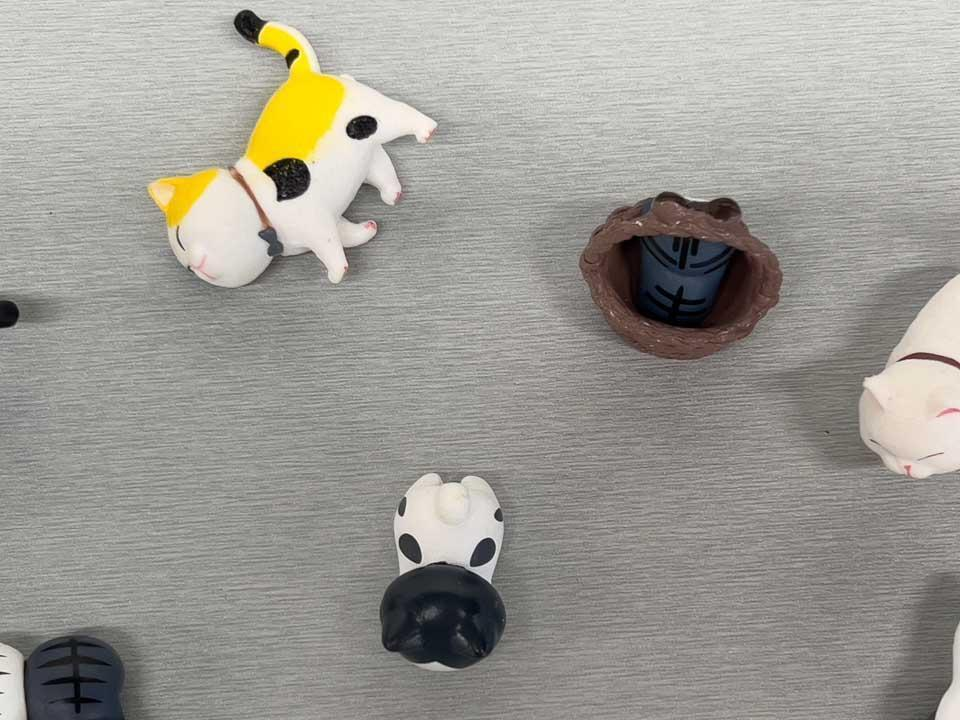pet: (146, 9, 442, 290), (575, 190, 786, 362), (383, 470, 513, 668), (856, 271, 960, 481)
